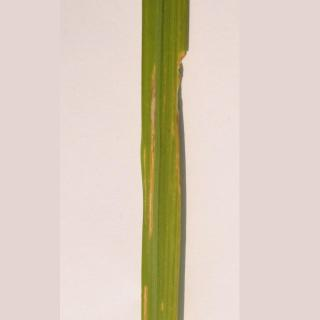Hawar-Daun: (131, 62, 170, 310), (157, 0, 197, 221)
